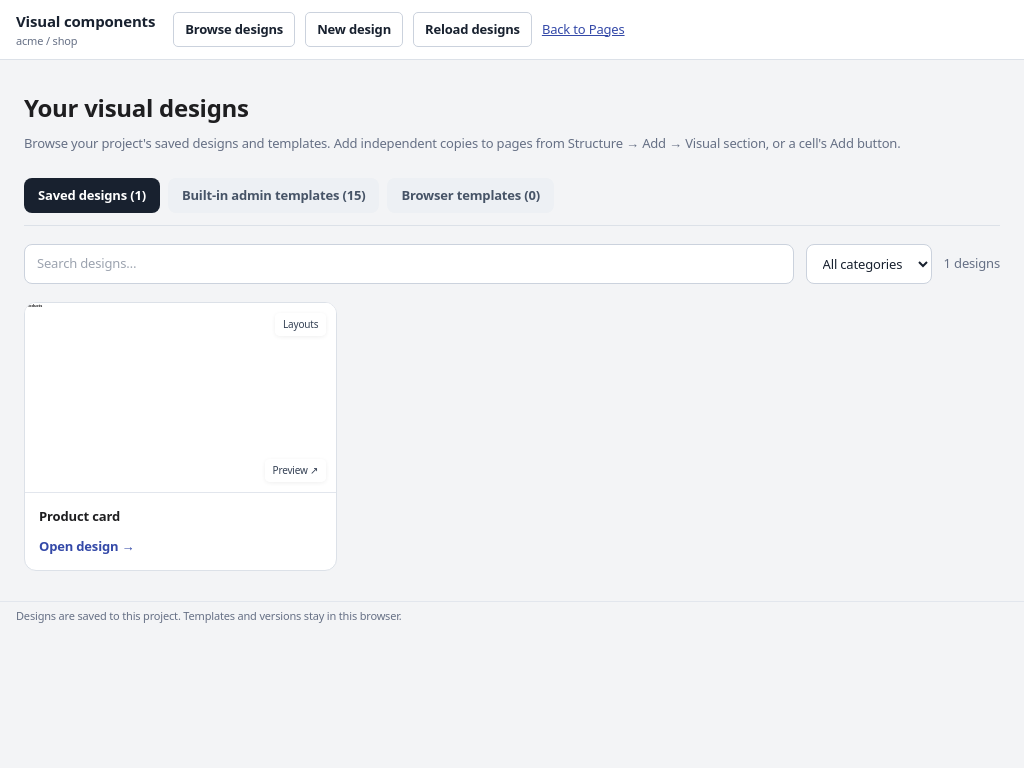
Test: does not include ozmishow designs and isolates browser templates by project
This screenshot has width=1024, height=768.
Expected: the button named "Preview Product card" is shown, [25,303,336,492]
Click the tab "Browser templates (0)" at (471, 195), box [388,178,554,213]
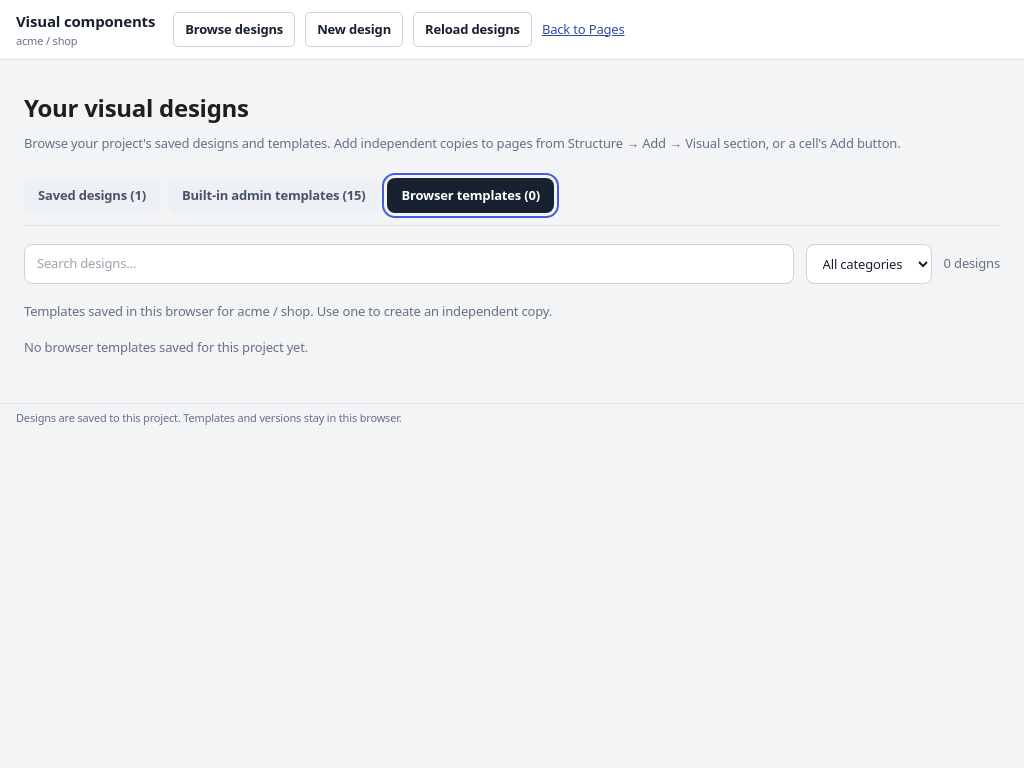
Expected: the text "No browser templates saved for this project yet." is shown, [24,338,308,356]
